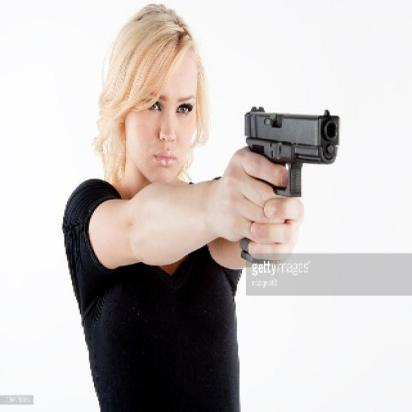Gun: (236, 98, 343, 202)
